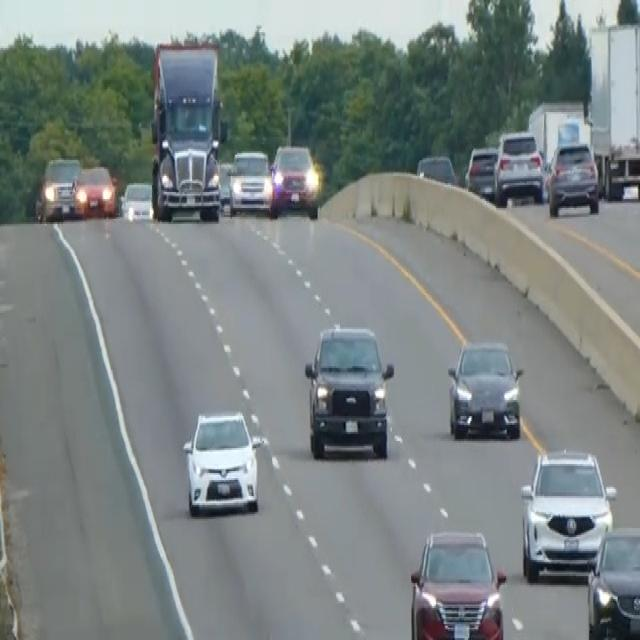car: (519, 444, 616, 582), (408, 526, 506, 638), (182, 407, 261, 516), (446, 336, 523, 439), (586, 524, 639, 638), (546, 137, 600, 217), (493, 128, 544, 204), (270, 140, 319, 217), (35, 154, 81, 220), (228, 148, 272, 215), (73, 162, 116, 218), (464, 144, 498, 199), (119, 180, 154, 222), (415, 151, 457, 185), (217, 158, 232, 210)
jeep: (303, 320, 395, 460)
lorry: (148, 36, 227, 222)
